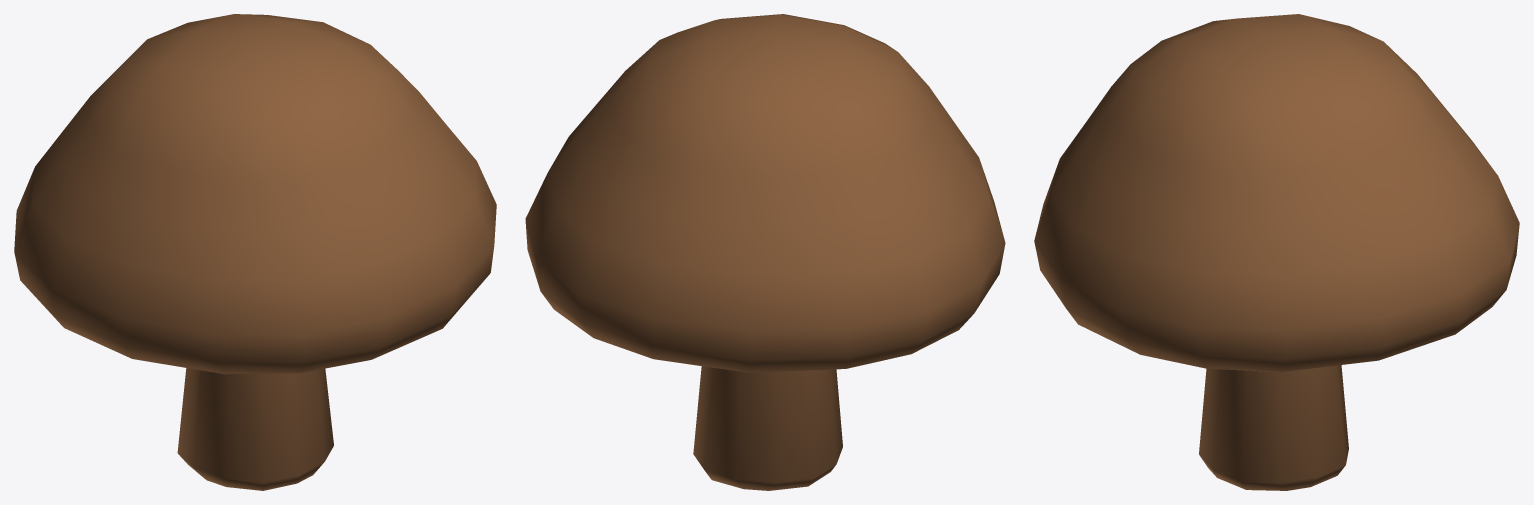
The model's file is shroomFoliage.glb.
The picture shows the model from 3 angles, left to right: view 1: azimuth 30°, elevation 25°; view 2: azimuth 150°, elevation 25°; view 3: azimuth 270°, elevation 25°; orthographic projection.
Visible parts, largest first — view 1: shroomFoliage; view 2: shroomFoliage; view 3: shroomFoliage.
Part boxes in pixels (bbox=[...]): shroomFoliage: bbox=[14, 14, 496, 490]; shroomFoliage: bbox=[525, 14, 1005, 490]; shroomFoliage: bbox=[1034, 14, 1519, 490].
Bounding box in the file's own units: 0.4649 × 0.45 × 0.4649.
